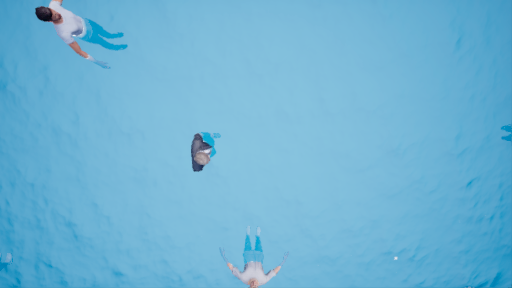person: (24, 2, 139, 67), (218, 226, 292, 285), (185, 115, 225, 181)
